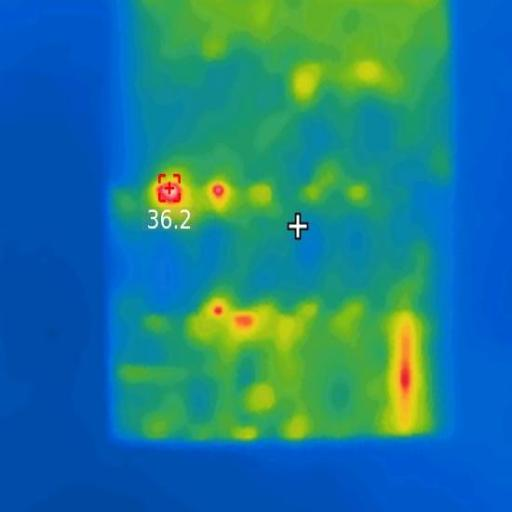hotspot: (398, 355, 415, 395), (160, 181, 184, 204), (211, 181, 228, 201)
